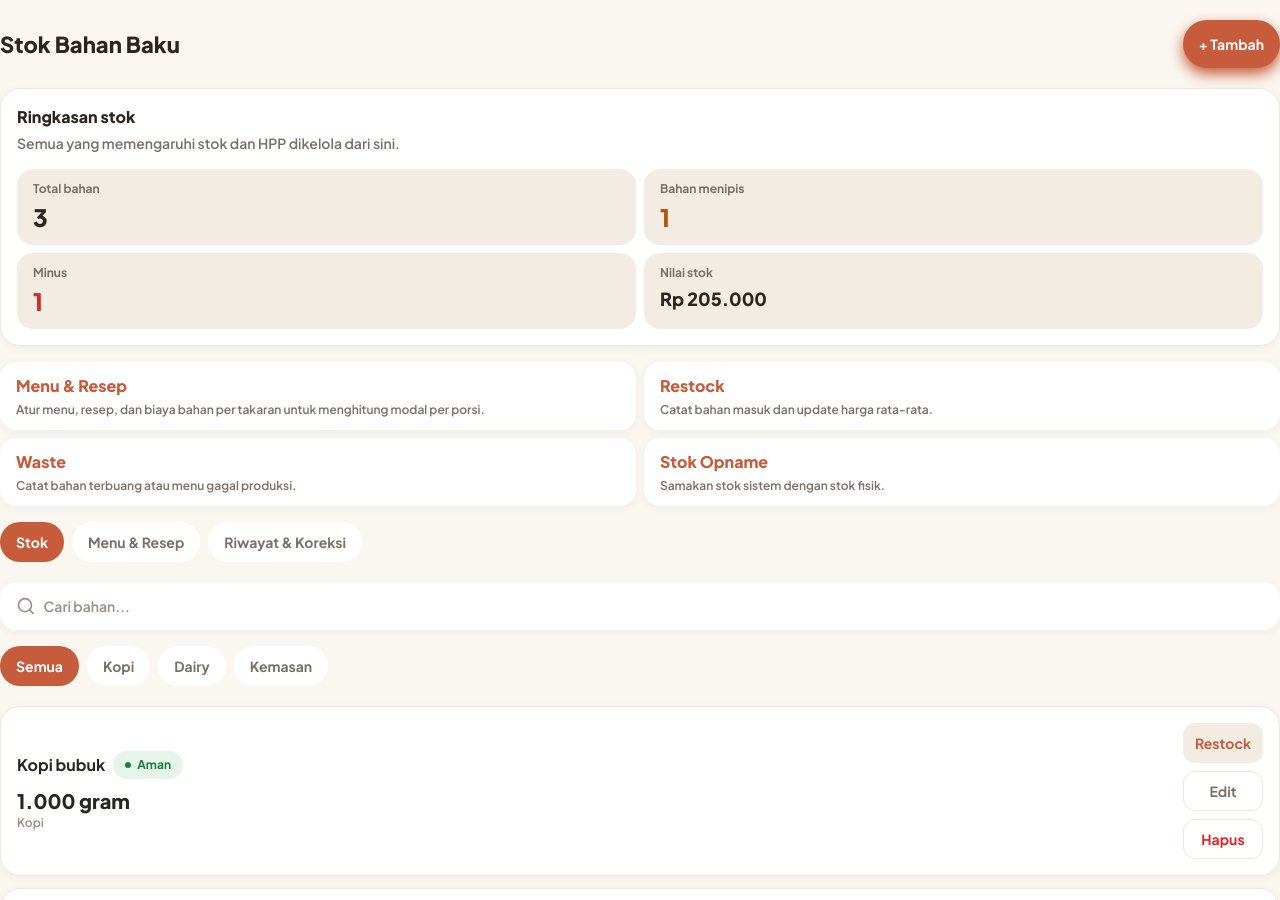
Test: Ingredients page › opens the add ingredient form in a modal from the header action
This screenshot has width=1280, height=900.
Click the button "+ Tambah" at (1231, 44), box [1183,20,1279,68]
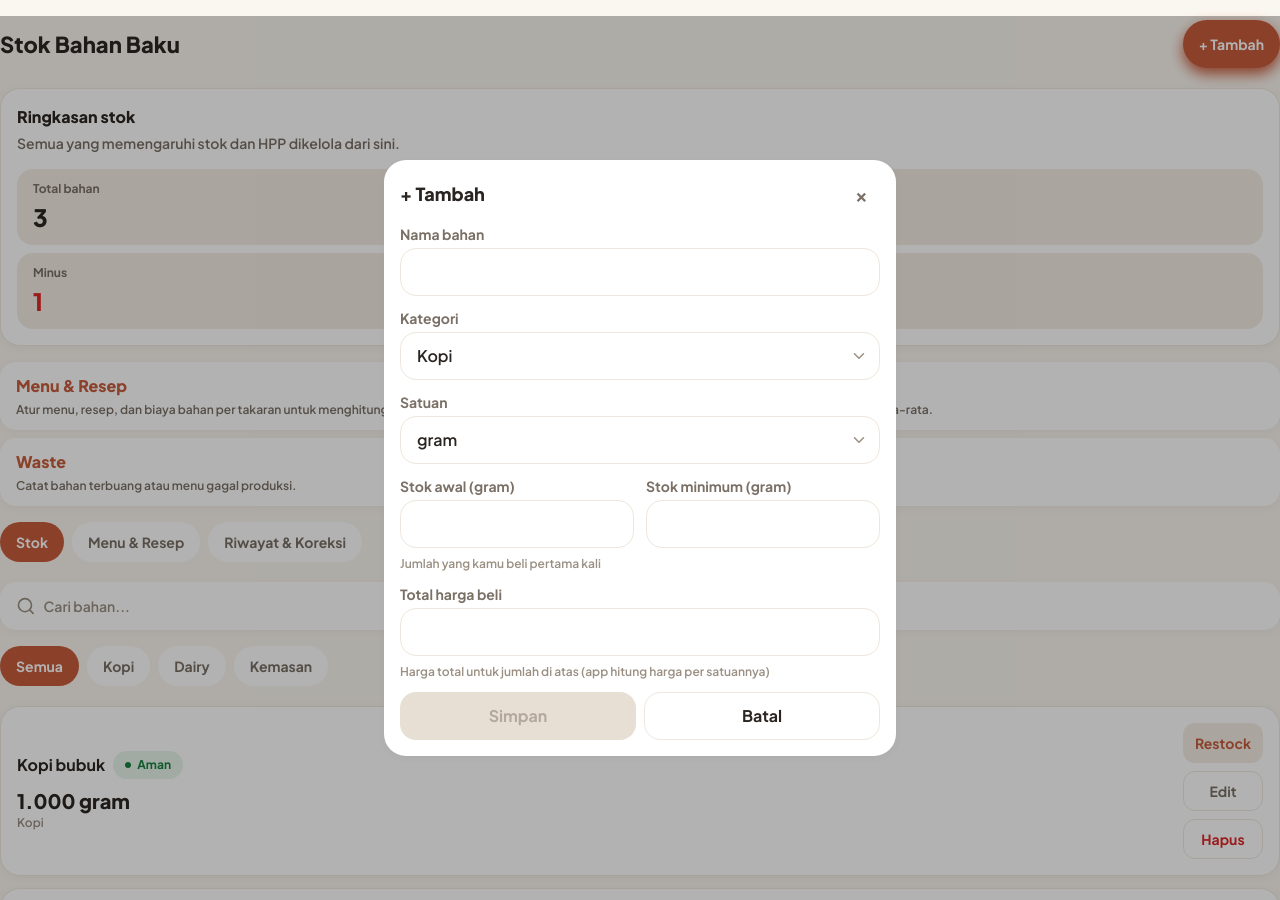
Result: the field labelled "Nama bahan" is shown at [400,248,880,296]
Result: the button "Simpan" is shown at [400,692,636,740]
